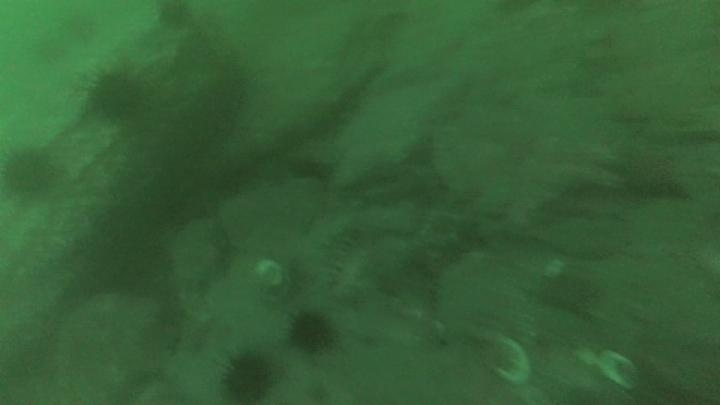echinus: (87, 67, 147, 123), (219, 349, 276, 404), (1, 145, 57, 198), (287, 309, 337, 355), (154, 1, 195, 31)
holothurian: (317, 220, 362, 295)
starfish: (601, 138, 694, 202)
